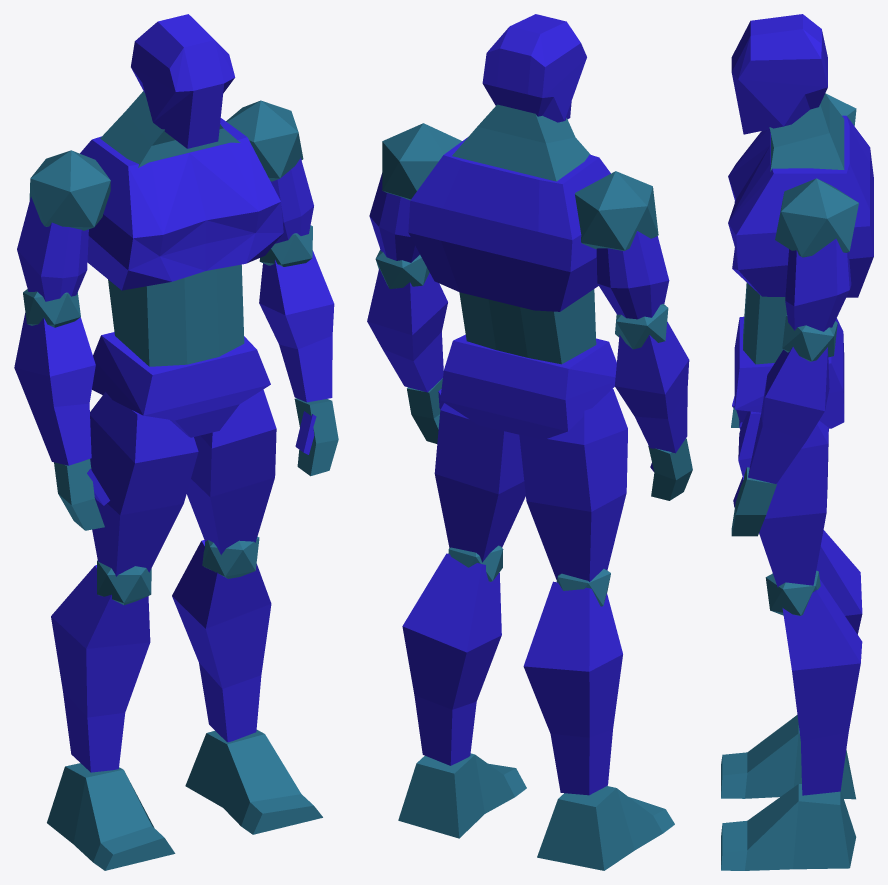
Rendered from Man.fbx.
The picture shows the model from 3 angles, left to right: view 1: azimuth 30°, elevation 25°; view 2: azimuth 150°, elevation 25°; view 3: azimuth 270°, elevation 25°; orthographic projection.
Visible parts, largest first — view 1: Cube.002, Cube.020, Cube.021, Cube.018, Cube.004, Cube.003, Cube.017, Cube, Cube.015, Cube.022, Cube.019, Cube.009 (+11 smaller); view 2: Cube.002, Cube.021, Cube.018, Cube.020, Cube.004, Cube.017, Cube, Cube.022, Cube.019, Cube.003, Cube.009, Cube.015 (+11 smaller); view 3: Cube.002, Cube.018, Cube, Cube.019, Cube.017, Cube.009, Cube.022, Icosphere.004, Cube.008, Cube.001, Cube.004, Cube.003 (+5 smaller).
Part boxes in pixels (x1,y1,x2,y2): Cube.002: (80,118,283,290); Cube.020: (90,392,198,576); Cube.021: (51,565,150,772); Cube.018: (172,540,271,742); Cube.004: (92,332,270,437); Cube.003: (108,264,244,366); Cube.017: (186,389,276,554); Cube: (131,14,235,148); Cube.015: (14,313,95,465); Cube.022: (47,763,175,870); Cube.019: (185,730,322,834); Cube.009: (259,250,334,402); Cube.002: (408,137,610,311); Cube.021: (523,581,622,795); Cube.018: (402,553,501,765); Cube.020: (519,388,627,581); Cube.004: (440,334,616,440); Cube.017: (434,403,525,562); Cube: (482,14,586,122); Cube.022: (537,786,674,870); Cube.019: (398,753,526,838); Cube.003: (459,289,596,364); Cube.009: (367,268,447,392); Cube.015: (614,322,689,453); Cube.002: (728,115,873,297); Cube.018: (782,579,862,795); Cube: (731,14,827,134); Cube.019: (721,784,856,870); Cube.017: (738,411,828,587); Cube.009: (748,347,829,484); Cube.022: (721,715,855,799); Icosphere.004: (775,178,858,257); Cube.008: (785,238,851,331); Cube.001: (769,93,844,171); Cube.004: (734,316,844,428); Cube.003: (743,282,786,364).
Bounding box in the file's own units: 349 × 899 × 156.
